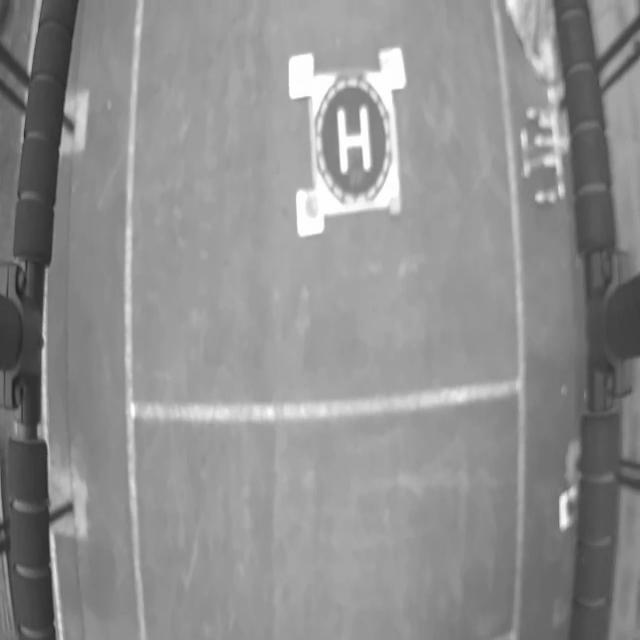Helipad: (336, 106, 371, 177)
